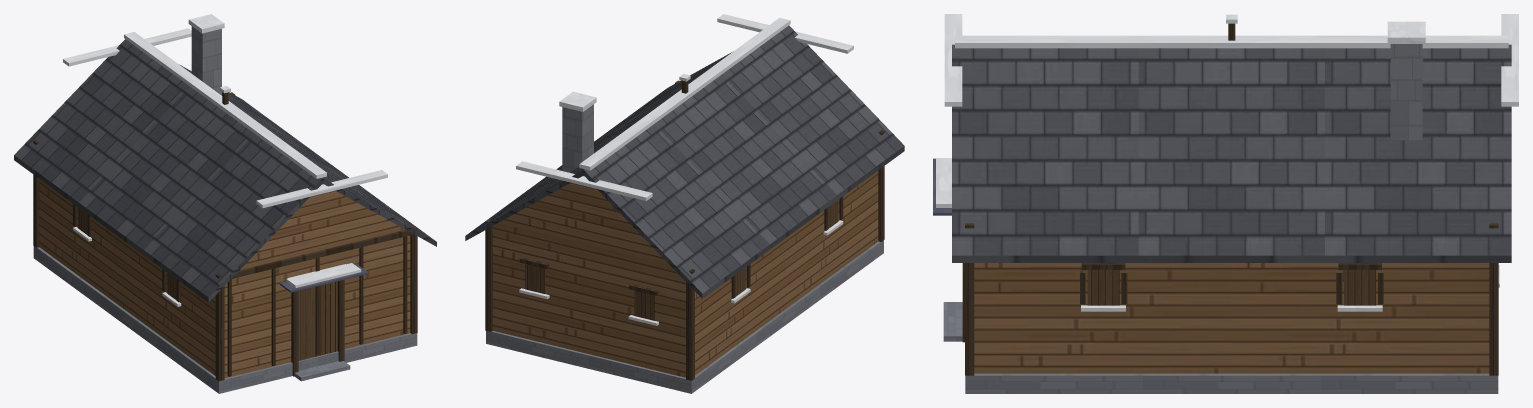
File: ae_snow_wood_large_hall_lod0.glb
The picture shows the model from 3 angles, left to right: view 1: azimuth 30°, elevation 25°; view 2: azimuth 150°, elevation 25°; view 3: azimuth 270°, elevation 25°; orthographic projection. The views are drawn at different scales.
Parts seen in each view (by area): view 1: ae_snow_wood_large_hall_lod0; view 2: ae_snow_wood_large_hall_lod0; view 3: ae_snow_wood_large_hall_lod0.
Part boxes in pixels (box(x1,y1,x2,y2)): ae_snow_wood_large_hall_lod0: box(14, 14, 436, 393); ae_snow_wood_large_hall_lod0: box(465, 14, 904, 393); ae_snow_wood_large_hall_lod0: box(933, 14, 1518, 393).
Size of the model in its own units: 6.5 by 6.14 by 10.05.
1 material, 1 textured.
